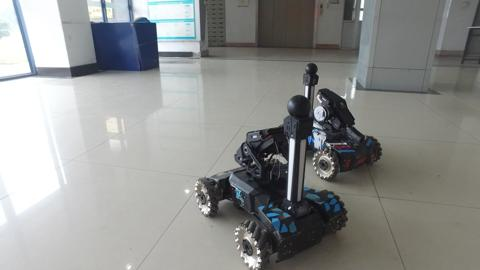chariot: (184, 94, 357, 270), (283, 59, 388, 182)
